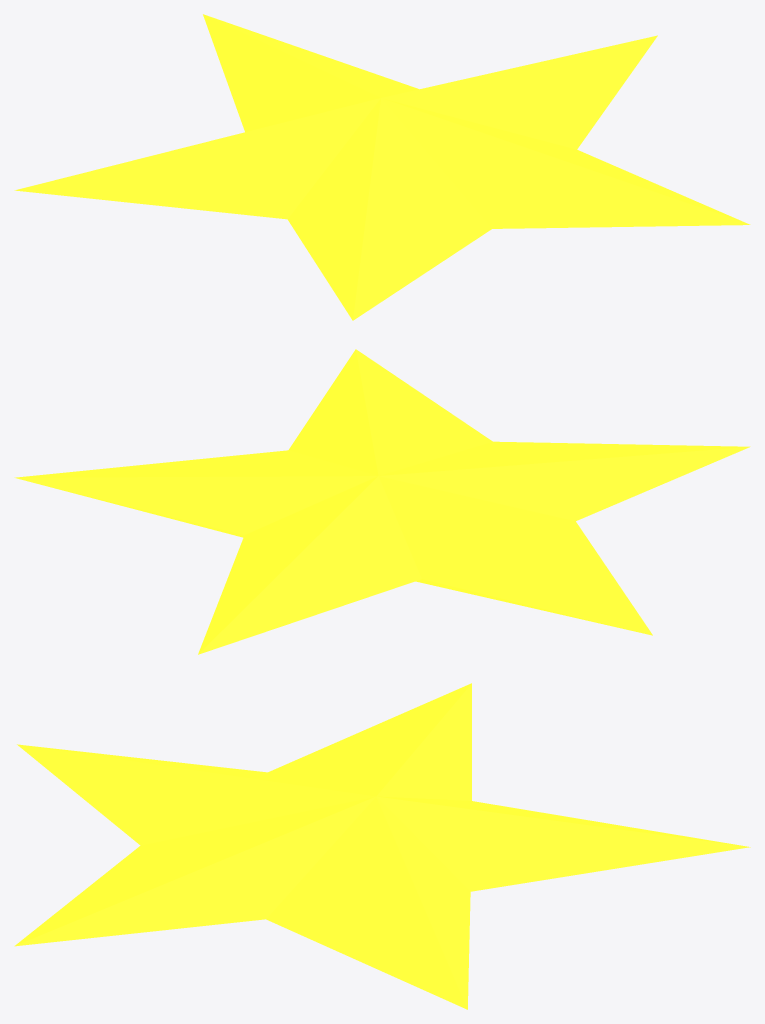
The model's file is Star.gltf.
The picture shows the model from 3 angles, top to bottom: view 1: azimuth 30°, elevation 25°; view 2: azimuth 150°, elevation 25°; view 3: azimuth 270°, elevation 25°; orthographic projection. The views are drawn at different scales.
Visible parts, largest first — view 1: pCylinder1; view 2: pCylinder1; view 3: pCylinder1.
Boxes of the visible parts, box(x1,y1,x2,y2) form: pCylinder1: box(14, 14, 750, 320); pCylinder1: box(14, 349, 750, 654); pCylinder1: box(14, 683, 750, 1009).
Bounding box in the file's own units: 1.31 × 0.1892 × 1.25.
